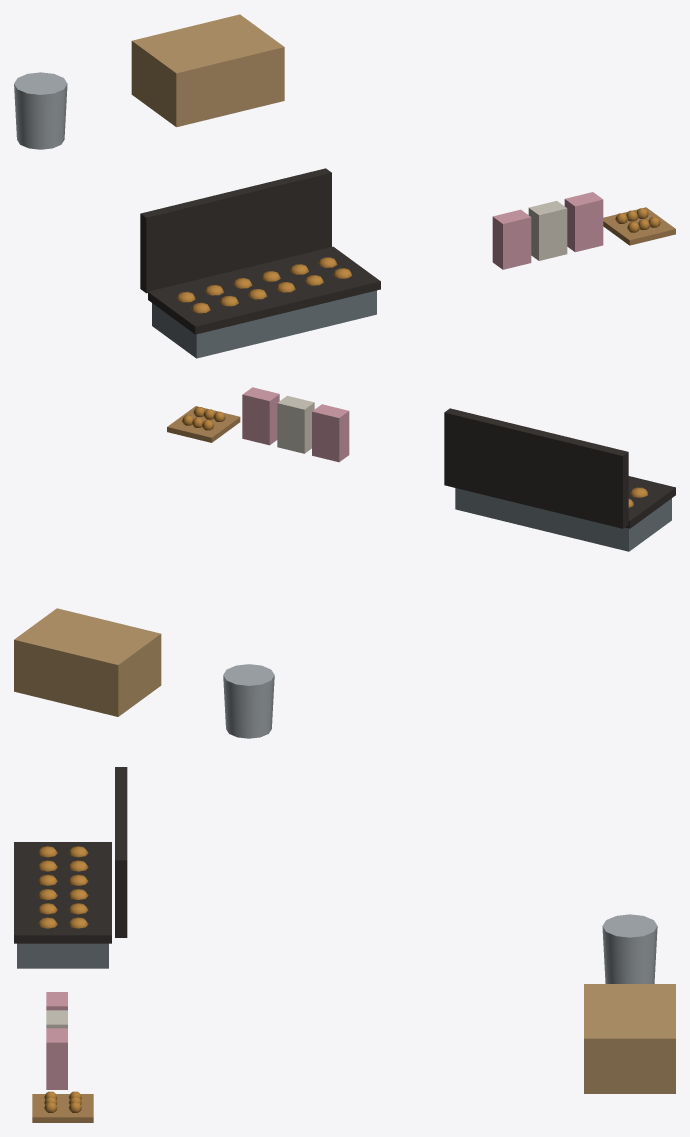
Rendered from goods_castella.glb.
3 views of the same model, one above another, from view 1: azimuth 30°, elevation 25°; view 2: azimuth 150°, elevation 25°; view 3: azimuth 270°, elevation 25° (orthographic). The views are drawn at different scales.
Parts seen in each view (by area): view 1: goods_castella; view 2: goods_castella; view 3: goods_castella.
Boxes of the visible parts, x1=… form: goods_castella: x1=14, y1=14, x2=675, y2=358; goods_castella: x1=14, y1=387, x2=675, y2=738; goods_castella: x1=14, y1=767, x2=675, y2=1122.
Bounding box in the file's own units: 1.9 × 0.519 × 2.16.
